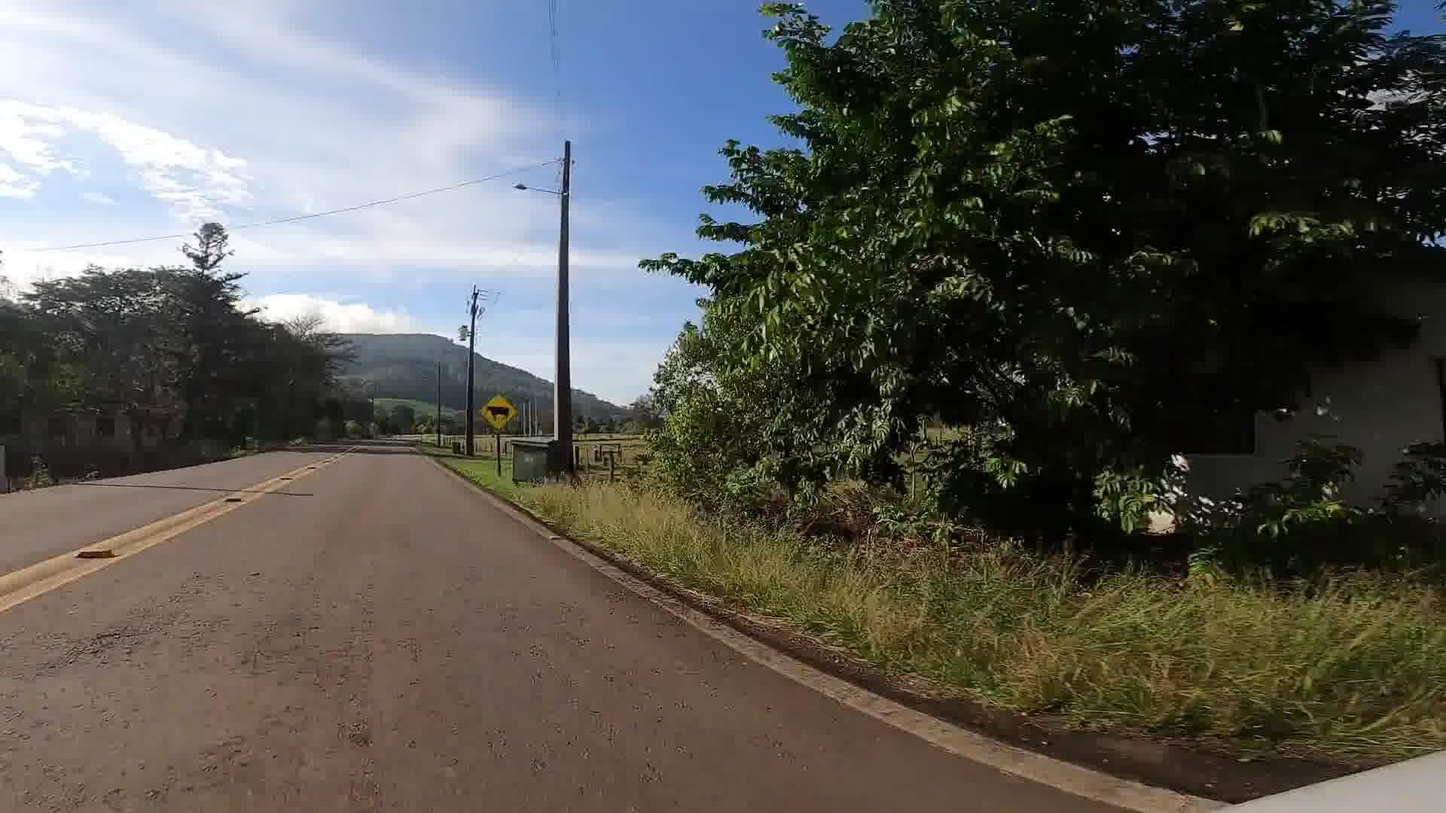A-35: (477, 391, 520, 433)
